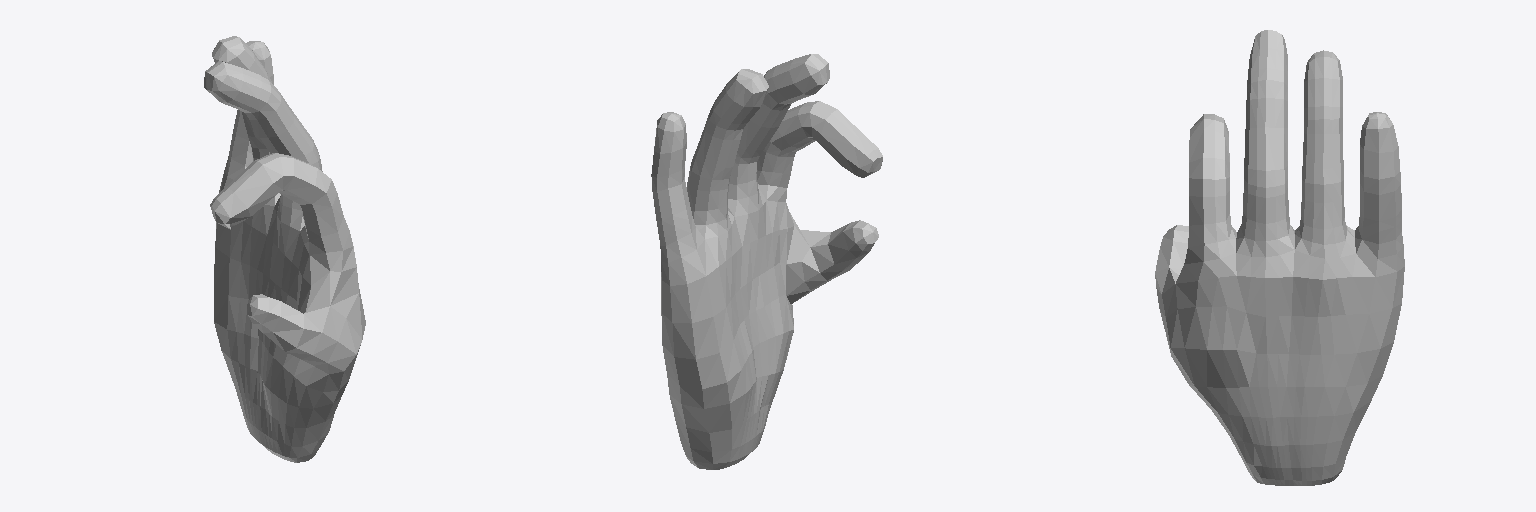
File: hand_3.obj
The picture shows the model from 3 angles: view 1: azimuth 30°, elevation 25°; view 2: azimuth 150°, elevation 25°; view 3: azimuth 270°, elevation 25°; orthographic projection.
Bounding box in the file's own units: 1.82 × 4.62 × 2.52.